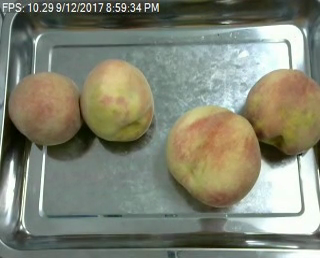Peach: (165, 105, 262, 208), (244, 67, 320, 155), (80, 58, 154, 141), (6, 71, 82, 147)
